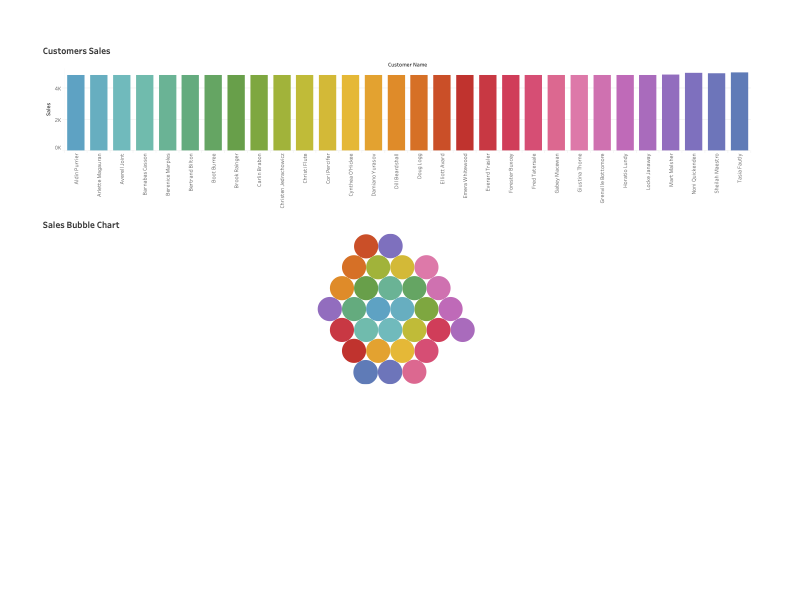

Layout of this report page (visuals, bound fields, positions):
{"tool":"tableau","page":{"name":"Dashboard 1","canvas":[1000,1000],"units":"permille","ordinal":0},"visuals":[{"type":"worksheet","title":"Sheet 1","mark":"Automatic","rows":["Sales"],"cols":["Customer Name"],"box":[6,9.3,987.9,492.2]},{"type":"worksheet","title":"Sheet 3","mark":"Circle","box":[6,501.5,987.9,489.2]}]}

Visuals, with their boxes on the dashboard's canvas, which has no fixed pixel size, in thousandths of its width and height (x1, y1, x2, y2). These are canvas units, not pixel positions in the 792x612 screenshot, which may show the page scaled, cropped or inside an application window:
"Sheet 1" worksheet: {"left": 6, "top": 9, "right": 994, "bottom": 502}
"Sheet 3" worksheet (Circle marks): {"left": 6, "top": 502, "right": 994, "bottom": 991}
